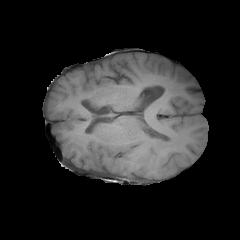glioma: (104, 134, 179, 169)
